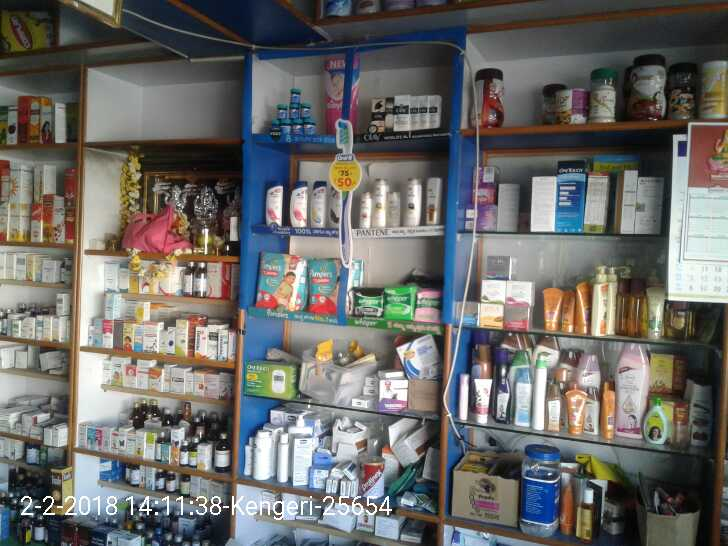beauty: (391, 93, 443, 135), (398, 171, 423, 231), (312, 175, 332, 234), (368, 163, 384, 233), (259, 173, 280, 224), (287, 178, 307, 229), (365, 95, 382, 130), (356, 188, 369, 232)
pharmacy: (246, 251, 302, 310), (269, 88, 323, 135), (307, 263, 349, 311), (380, 282, 411, 321), (347, 277, 377, 316), (416, 285, 442, 327)
